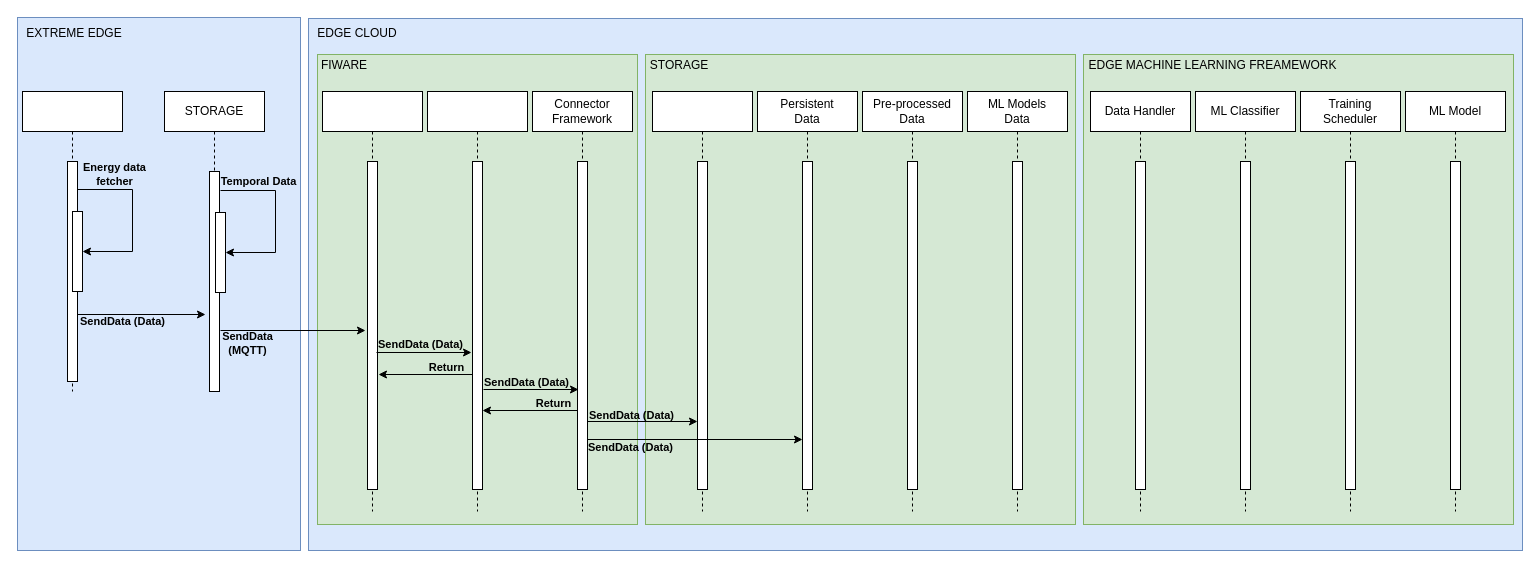
The diagram is 1540 pixels wide and 568 high, and some of its shapes have lost their labels. The box of each missing label's shape, as (x1, y1, x2, y2) in pixels:
Context Broker: (426, 90, 528, 512)
IED: (22, 90, 122, 392)
IoT Agent: (322, 90, 422, 512)
Real-time data: (652, 90, 752, 512)
